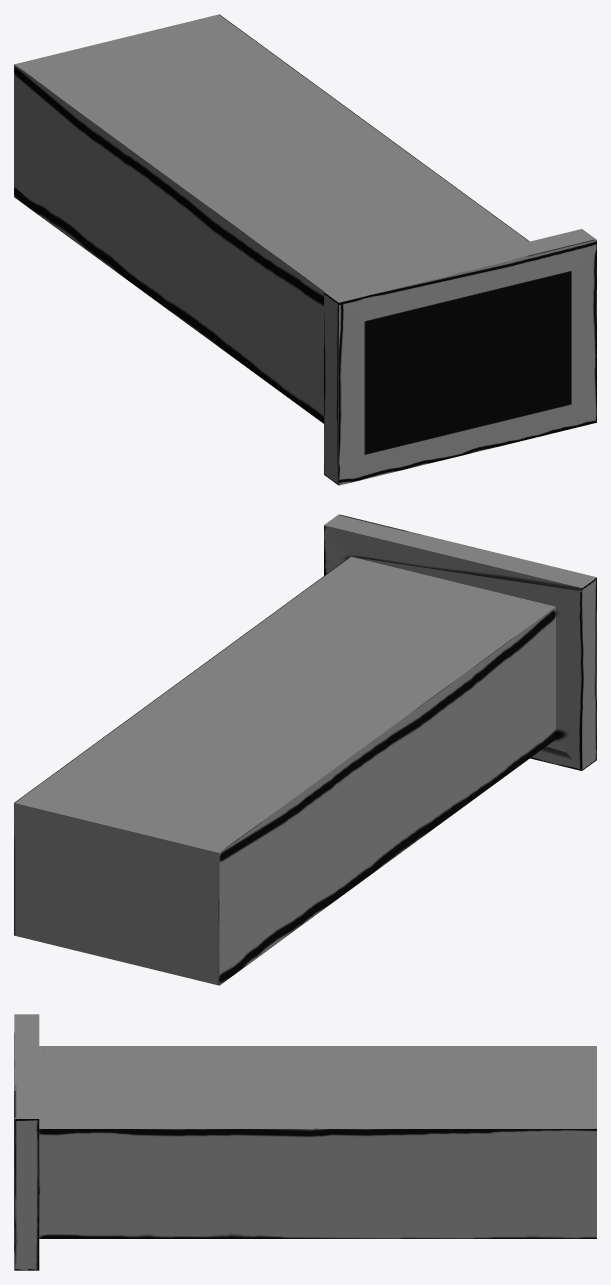
The model's file is duct.fbx.
3 views of the same model, one above another, from view 1: azimuth 30°, elevation 25°; view 2: azimuth 150°, elevation 25°; view 3: azimuth 270°, elevation 25° (orthographic). The views are drawn at different scales.
Parts seen in each view (by area): view 1: Cube.002; view 2: Cube.002; view 3: Cube.002.
Part boxes in pixels (x1,y1,x2,y2): Cube.002: [14, 14, 596, 485]; Cube.002: [14, 514, 596, 985]; Cube.002: [14, 1014, 596, 1270].
Size of the model in its own units: 372 by 252 by 877.
